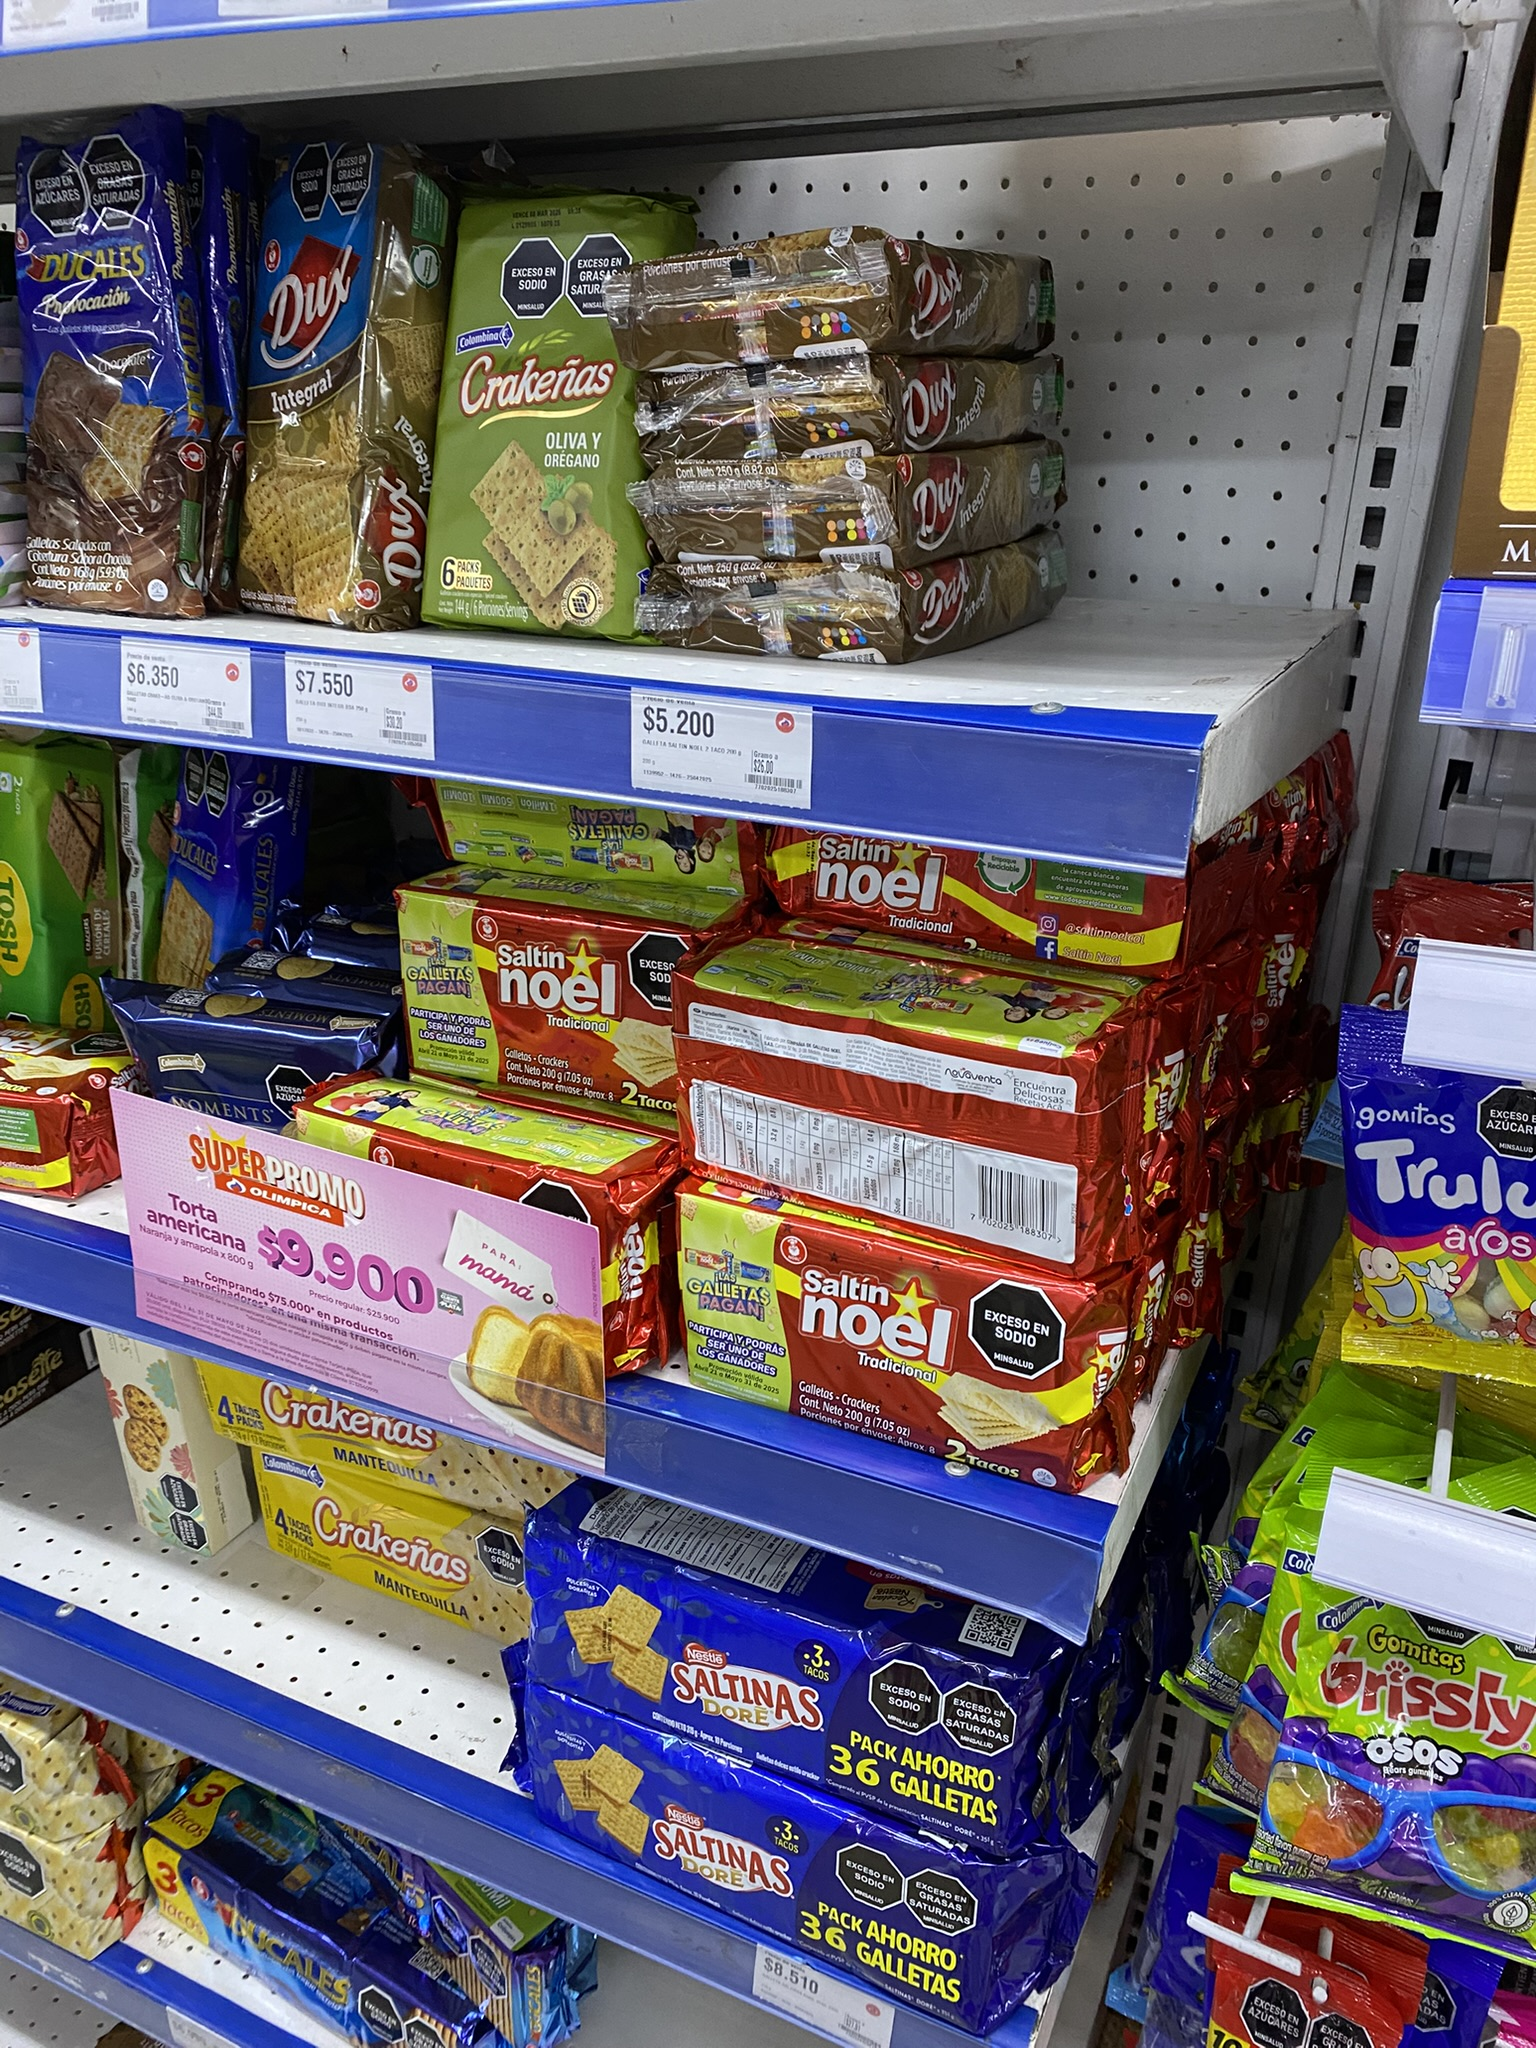Saltin Noel: (670, 1169, 1118, 1495), (678, 932, 1118, 1248), (384, 872, 676, 1129), (747, 808, 1189, 956)
